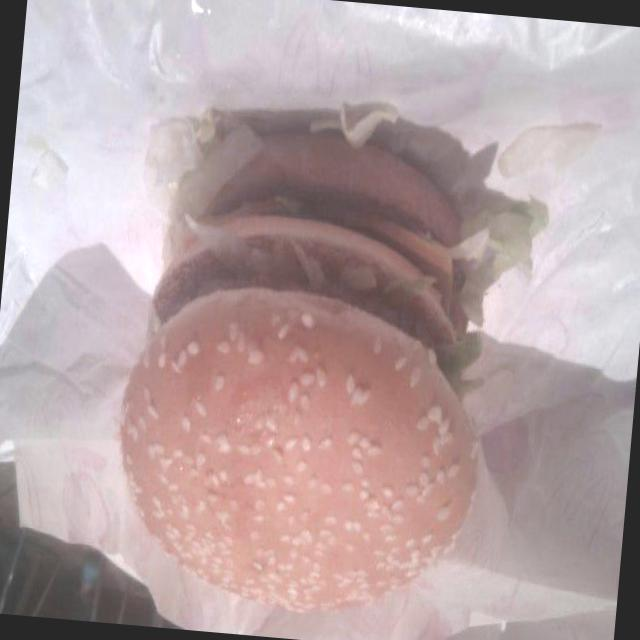Hamburger: (94, 102, 526, 636)
